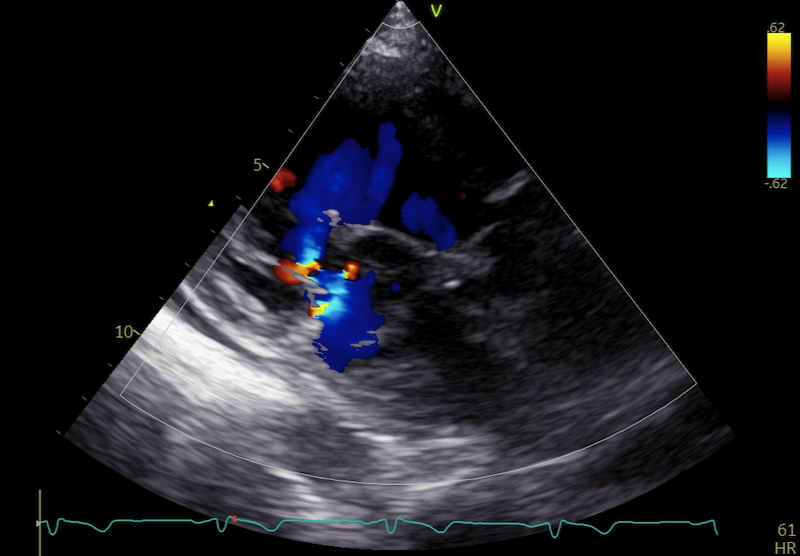MR: (296, 208, 349, 321)
